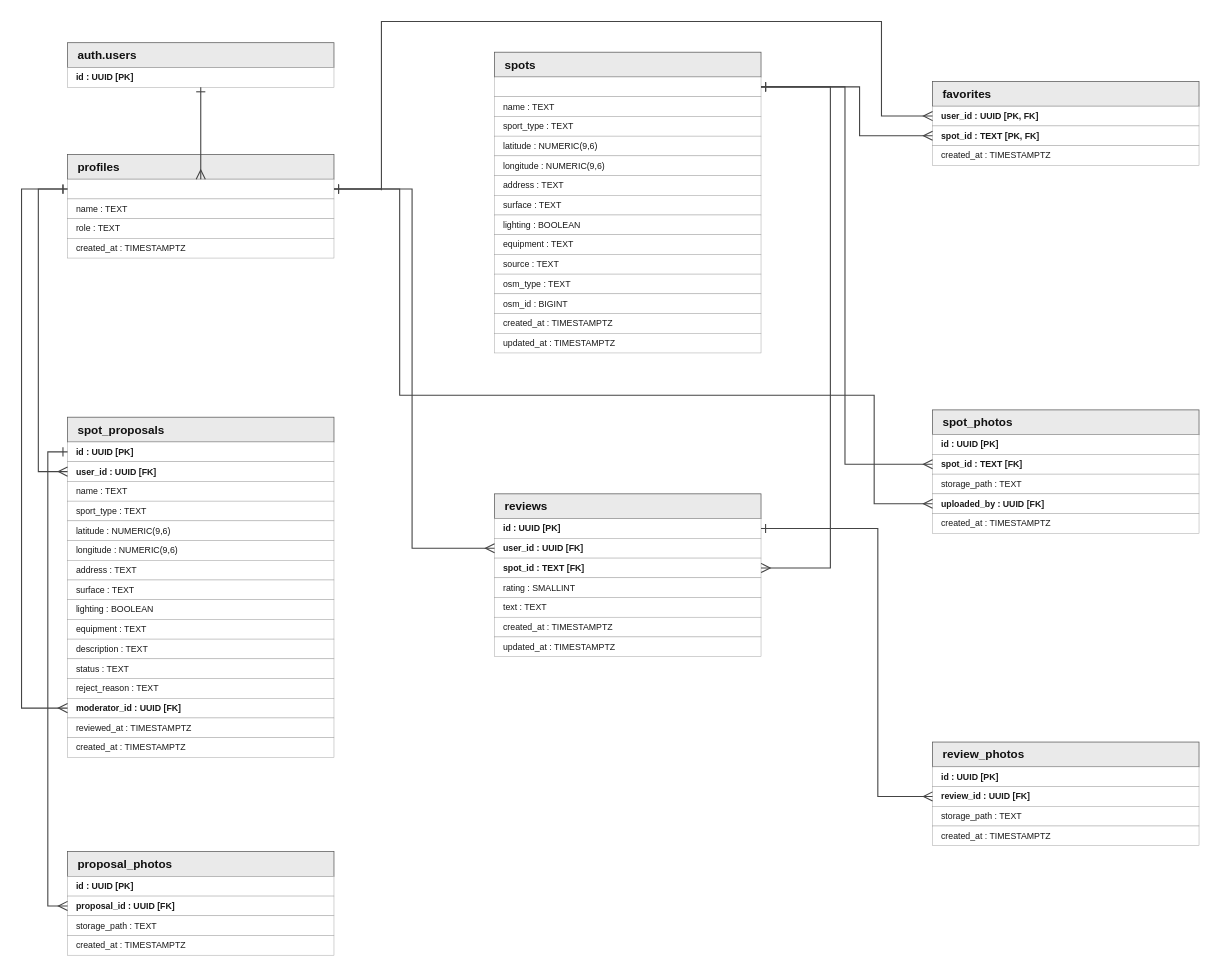
This 1213x969 diagram has some shape labels left out. Each missing label, with the box of its shape:
id : TEXT [PK]: (494, 76, 761, 97)
id : UUID [PK, FK]: (67, 179, 334, 199)
